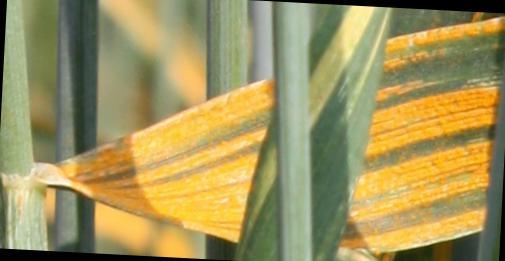Wheat: (130, 125, 268, 243), (341, 140, 495, 227), (360, 79, 498, 162), (383, 16, 505, 56)
